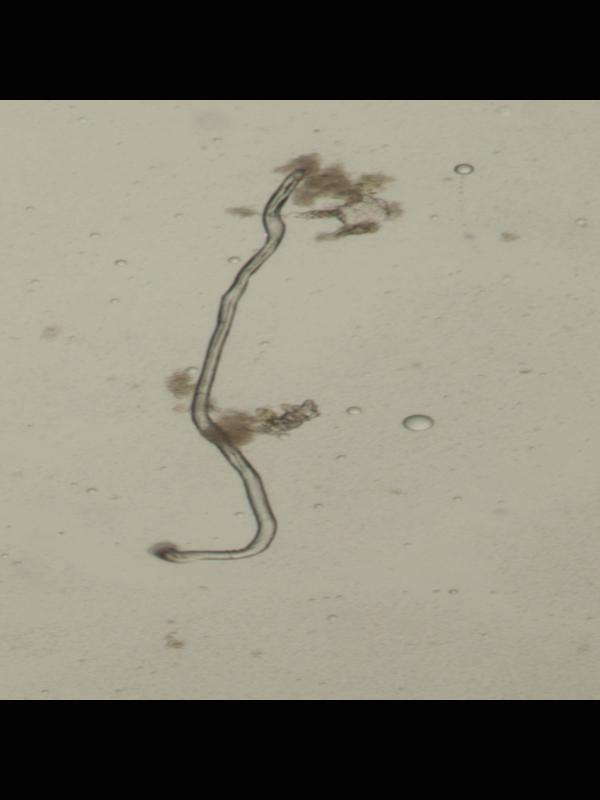microplastic: (145, 167, 318, 564)
